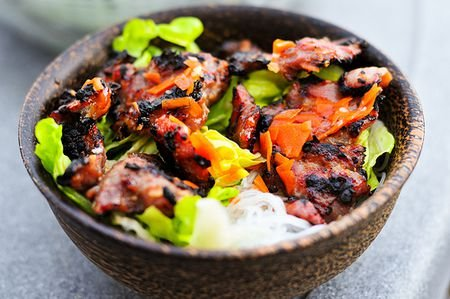sushi: (16, 13, 437, 294)
